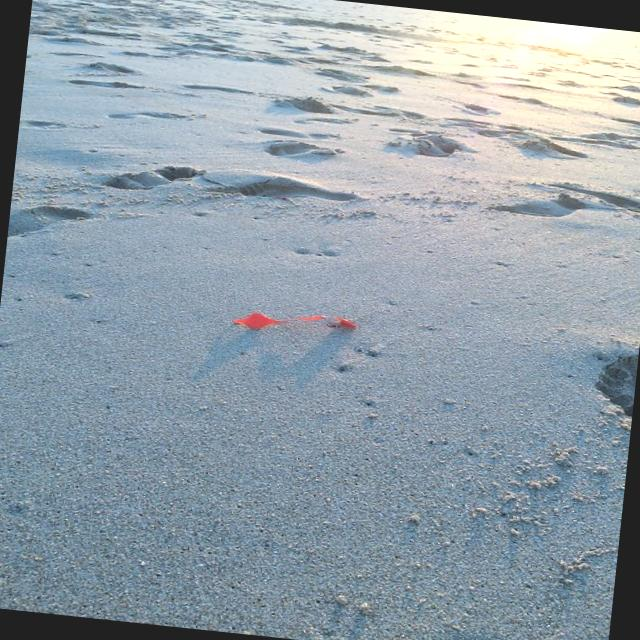Trash: (232, 306, 359, 344)
